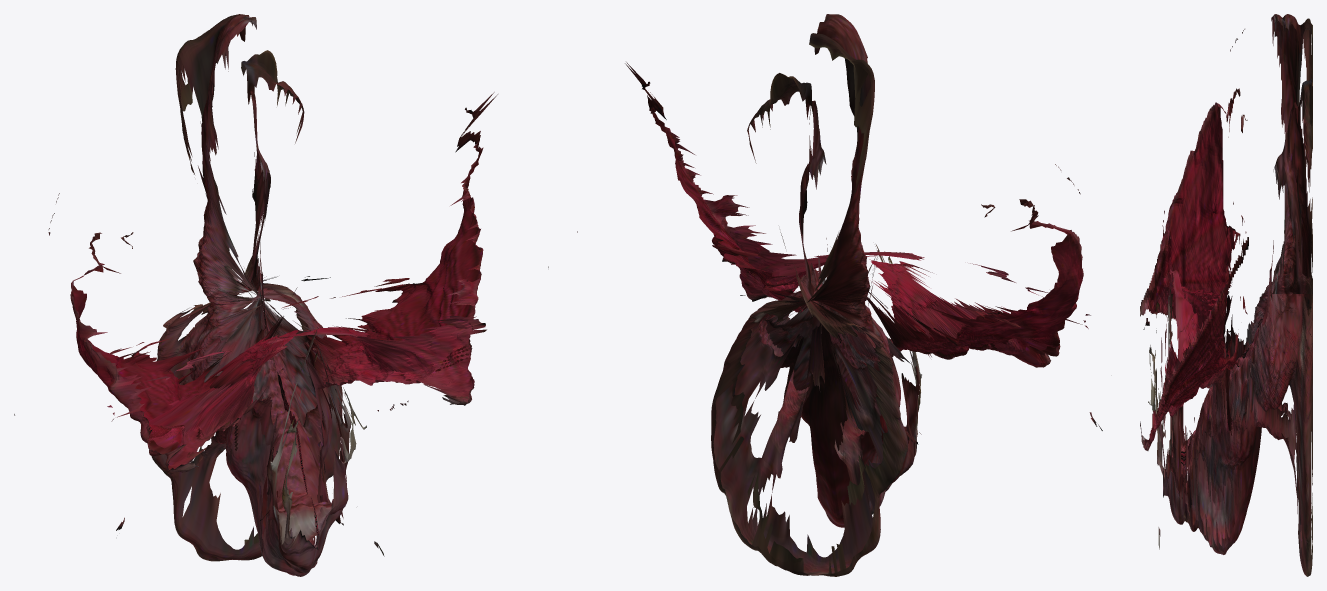
The picture shows the model from 3 angles, left to right: view 1: azimuth 30°, elevation 25°; view 2: azimuth 150°, elevation 25°; view 3: azimuth 270°, elevation 25°; orthographic projection. The views are drawn at different scales.
Visible parts, largest first — view 1: geometry_0; view 2: geometry_0; view 3: geometry_0.
Boxes of the visible parts, x1,y1,x2,y2 form: geometry_0: [14, 14, 548, 576]; geometry_0: [577, 14, 1102, 576]; geometry_0: [1140, 14, 1312, 576].
Bounding box in the file's own units: 1.99 × 1.98 × 0.5724.
Materials: 1 (1 with a texture image).
